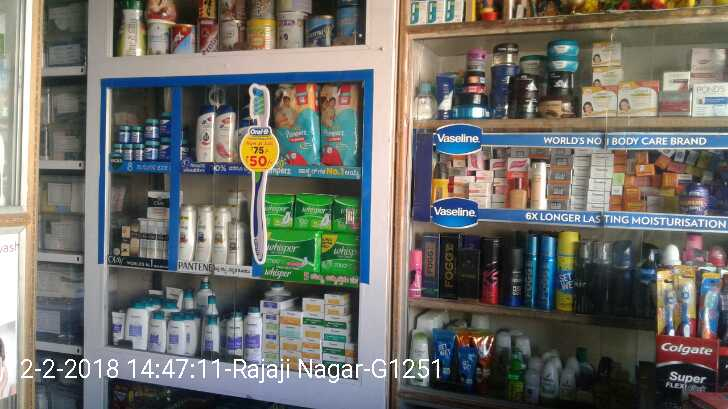beauty: (213, 102, 235, 165), (177, 205, 197, 265), (210, 201, 228, 267), (193, 106, 213, 163), (193, 204, 211, 263), (226, 220, 245, 271), (138, 224, 165, 259), (145, 188, 171, 219), (127, 221, 139, 256), (120, 224, 128, 255)
pharmacy: (271, 80, 318, 168), (319, 84, 362, 164), (259, 233, 319, 275), (293, 193, 331, 230), (261, 191, 295, 230), (322, 232, 355, 268), (141, 119, 159, 145), (141, 141, 157, 161), (116, 127, 129, 146), (117, 146, 134, 160), (156, 144, 168, 162), (129, 129, 138, 145)
